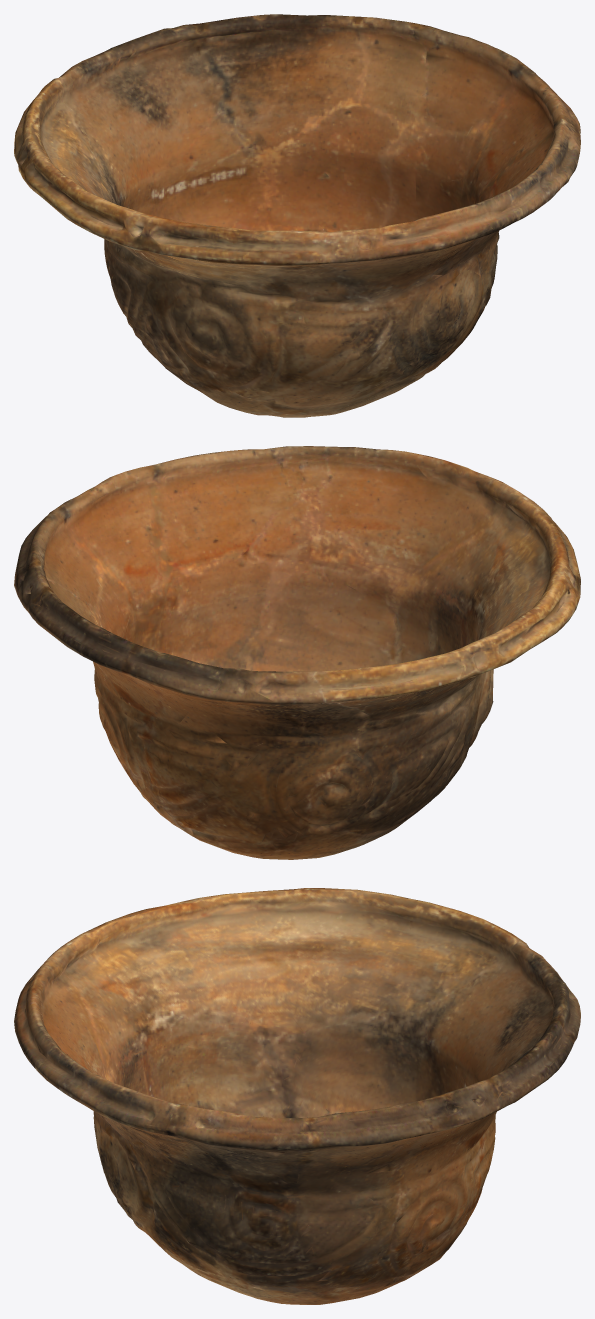
3 renders of one model, top to bottom at view 1: azimuth 30°, elevation 25°; view 2: azimuth 150°, elevation 25°; view 3: azimuth 270°, elevation 25°, orthographic.
Parts seen in each view (by area): view 1: IN0277_low; view 2: IN0277_low; view 3: IN0277_low.
Boxes of the visible parts, x1,y1,x2,y2 form: IN0277_low: [14, 14, 580, 417]; IN0277_low: [14, 446, 580, 859]; IN0277_low: [14, 888, 580, 1304].
Bounding box in the file's own units: 269 × 141 × 266.
1 material, 1 textured.
